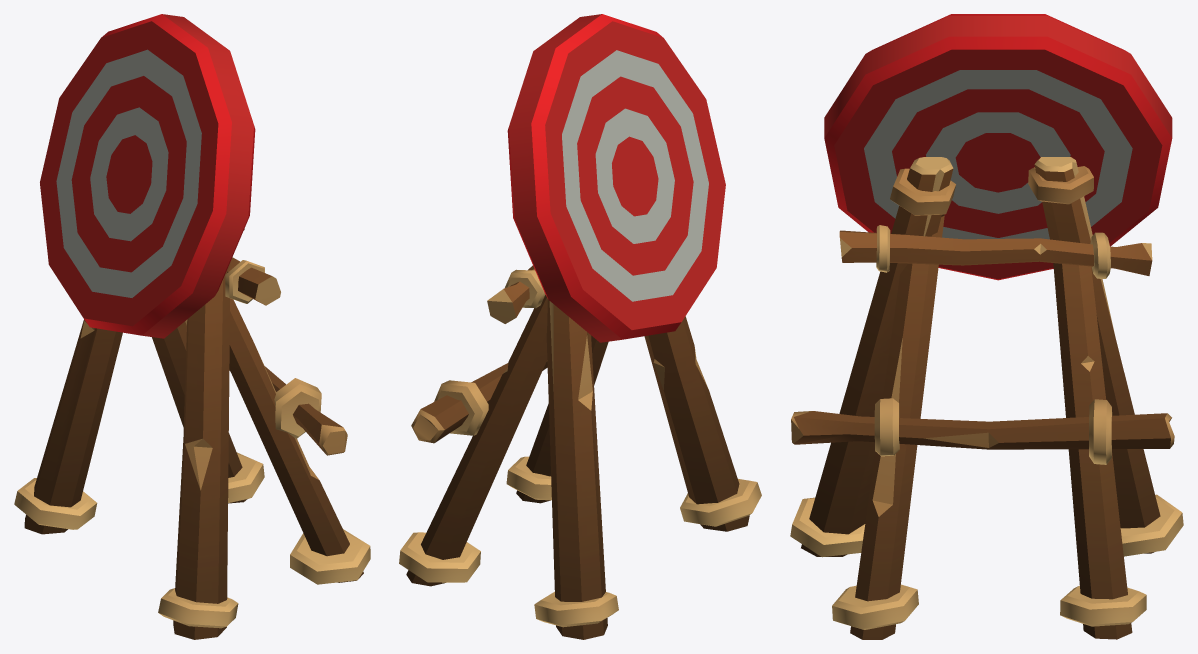
The model's file is PracticeTarget_2_A.glb.
3 renders of one model, left to right at view 1: azimuth 30°, elevation 25°; view 2: azimuth 150°, elevation 25°; view 3: azimuth 270°, elevation 25°, orthographic. The views are drawn at different scales.
Visible parts, largest first — view 1: PracticeTarget_2_A; view 2: PracticeTarget_2_A; view 3: PracticeTarget_2_A.
Part boxes in pixels (left/top/right/bottom): PracticeTarget_2_A: left=14, top=14, right=370, bottom=639; PracticeTarget_2_A: left=399, top=14, right=761, bottom=639; PracticeTarget_2_A: left=790, top=14, right=1183, bottom=639.
Bounding box in the file's own units: 0.5897 × 1.32 × 0.8367.
Materials: 1 (1 with a texture image).
